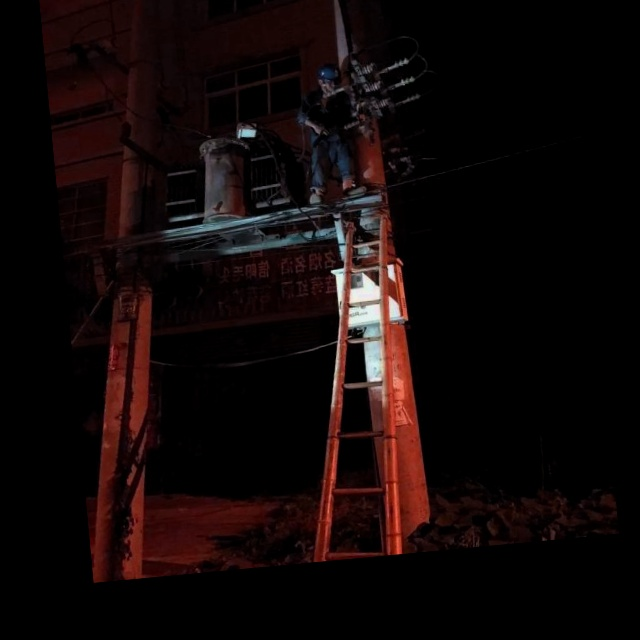Con_Casco: (315, 62, 344, 93)
